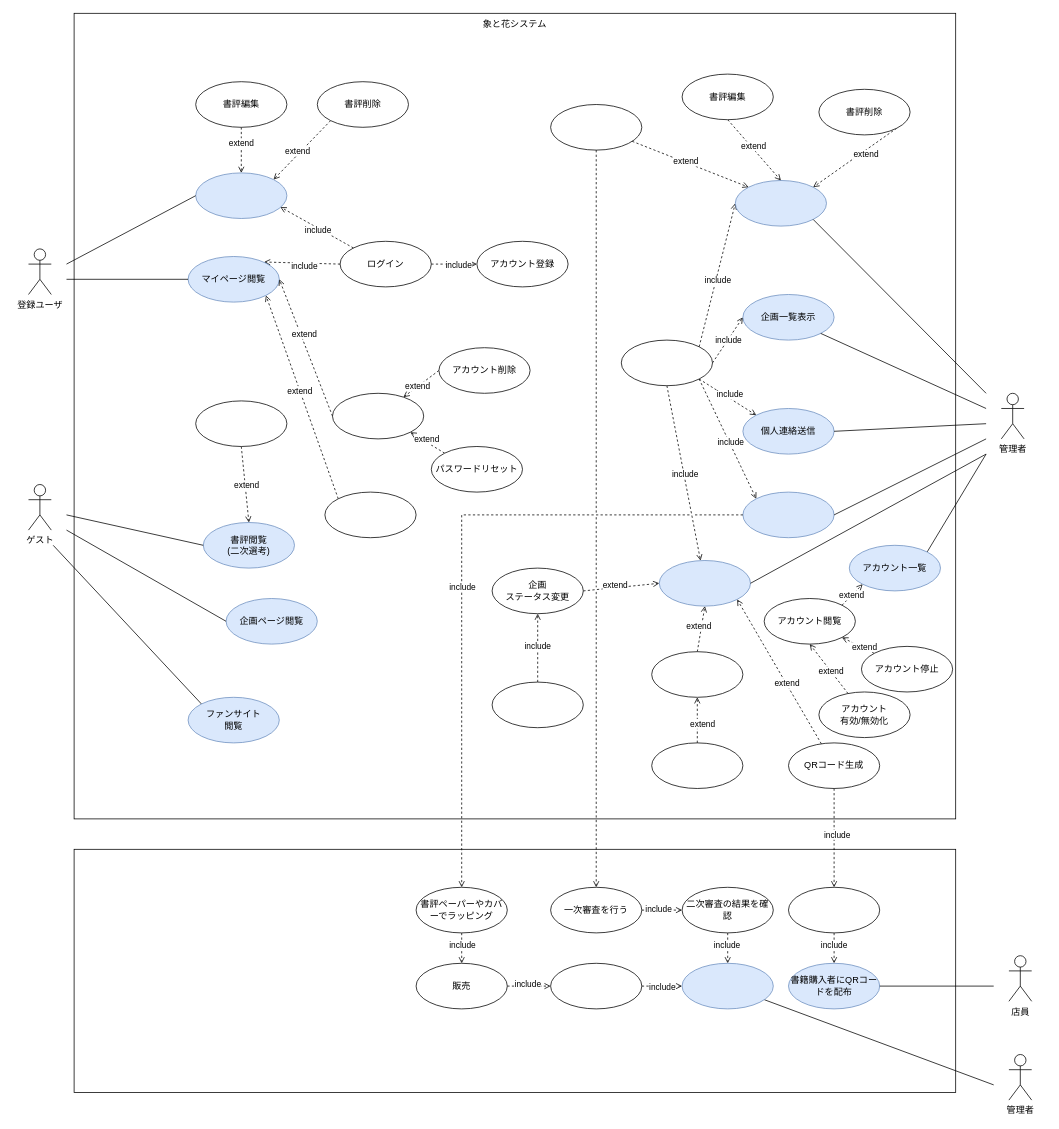
Some shapes in this 1059 by 1129 pixel diagram are drawn without their labels. Here are the shapes that lost their labels. From the top down, the box of each, then its label:
(550, 104, 642, 150): 書評閲覧
(195, 172, 287, 218): 書評投稿
(735, 180, 826, 226): 書評管理
(621, 339, 712, 386): ログイン (管理者)
(195, 400, 287, 446): 投票
(332, 393, 424, 439): アカウント編集
(324, 491, 416, 538): 個人連絡
(742, 491, 834, 538): 書評 プリントアウト データ作成
(659, 560, 750, 606): 企画管理
(651, 651, 743, 697): 企画編集
(491, 681, 583, 728): 企画登録
(651, 742, 743, 788): 企画ページ編集
(788, 887, 880, 933): 書籍購入者に配布するQRコード を印刷
(73, 849, 956, 1092): システム外
(550, 963, 642, 1009): 販売結果を集計
(681, 963, 773, 1009): 大賞を選出
